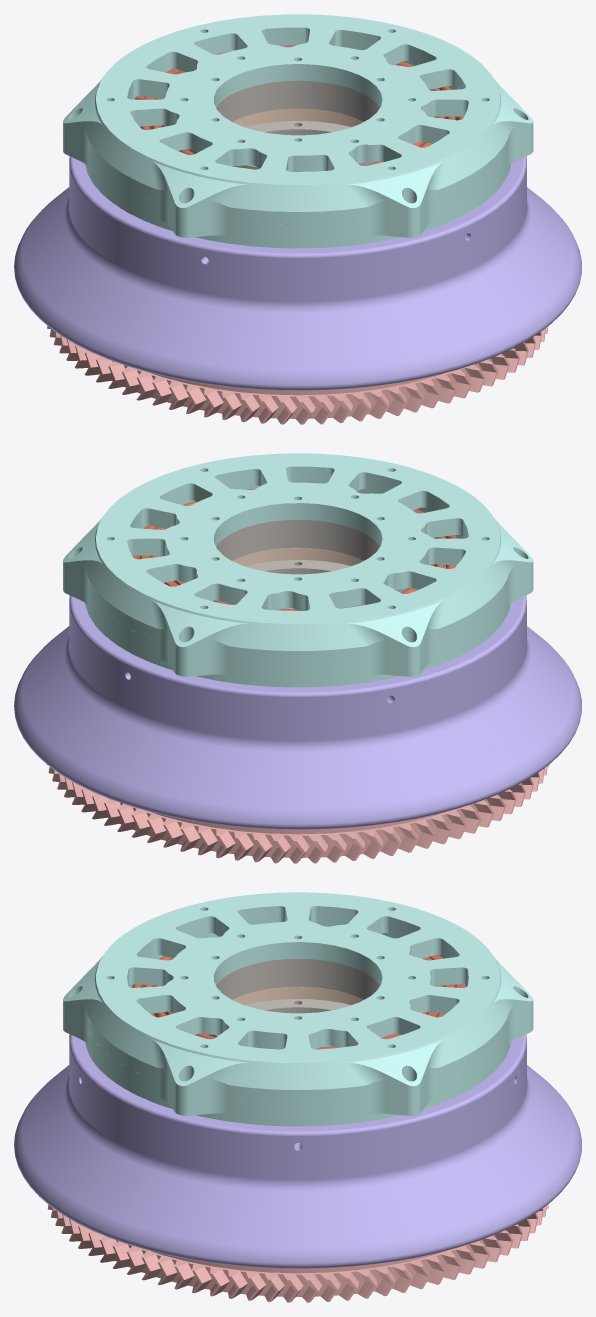
File: electromagnetic-dock.glb
The picture shows the model from 3 angles, top to bottom: view 1: azimuth 30°, elevation 25°; view 2: azimuth 150°, elevation 25°; view 3: azimuth 270°, elevation 25°; orthographic projection.
Parts seen in each view (by area): view 1: PRT - Alignment Guide Rev 1 - SIEL Docking-1, PRT - Male Tooth Rev 1 - SIEL Docking-1, PRT - Female Tooth Rev 1 - SIEL Docking-1, PRT - Electromagnet Rev 1 - SIEL Docking-3, PRT - Cover Rev 1 - SIEL Docking-1, PRT - Electromagnet Rev 1 - SIEL Docking-1; view 2: PRT - Alignment Guide Rev 1 - SIEL Docking-1, PRT - Male Tooth Rev 1 - SIEL Docking-1, PRT - Female Tooth Rev 1 - SIEL Docking-1, PRT - Electromagnet Rev 1 - SIEL Docking-3, PRT - Cover Rev 1 - SIEL Docking-1, PRT - Electromagnet Rev 1 - SIEL Docking-1; view 3: PRT - Alignment Guide Rev 1 - SIEL Docking-1, PRT - Male Tooth Rev 1 - SIEL Docking-1, PRT - Female Tooth Rev 1 - SIEL Docking-1, PRT - Electromagnet Rev 1 - SIEL Docking-3, PRT - Cover Rev 1 - SIEL Docking-1, PRT - Electromagnet Rev 1 - SIEL Docking-1.
Boxes of the visible parts, x1,y1,x2,y2 form: PRT - Alignment Guide Rev 1 - SIEL Docking-1: (14,156,581,390); PRT - Male Tooth Rev 1 - SIEL Docking-1: (63,14,533,248); PRT - Female Tooth Rev 1 - SIEL Docking-1: (47,326,548,424); PRT - Electromagnet Rev 1 - SIEL Docking-3: (135,45,463,169); PRT - Cover Rev 1 - SIEL Docking-1: (233,110,363,127); PRT - Electromagnet Rev 1 - SIEL Docking-1: (245,121,351,135); PRT - Alignment Guide Rev 1 - SIEL Docking-1: (14,595,581,829); PRT - Male Tooth Rev 1 - SIEL Docking-1: (63,453,533,687); PRT - Female Tooth Rev 1 - SIEL Docking-1: (46,764,549,863); PRT - Electromagnet Rev 1 - SIEL Docking-3: (132,488,457,610); PRT - Cover Rev 1 - SIEL Docking-1: (232,548,363,566); PRT - Electromagnet Rev 1 - SIEL Docking-1: (245,560,350,574); PRT - Alignment Guide Rev 1 - SIEL Docking-1: (14,1034,581,1268); PRT - Male Tooth Rev 1 - SIEL Docking-1: (63,892,533,1143); PRT - Female Tooth Rev 1 - SIEL Docking-1: (47,1204,548,1302); PRT - Electromagnet Rev 1 - SIEL Docking-3: (132,937,465,1049); PRT - Cover Rev 1 - SIEL Docking-1: (232,987,363,1004); PRT - Electromagnet Rev 1 - SIEL Docking-1: (244,999,350,1013).
Size of the model in its own units: 0.1849 by 0.0784 by 0.1848.
